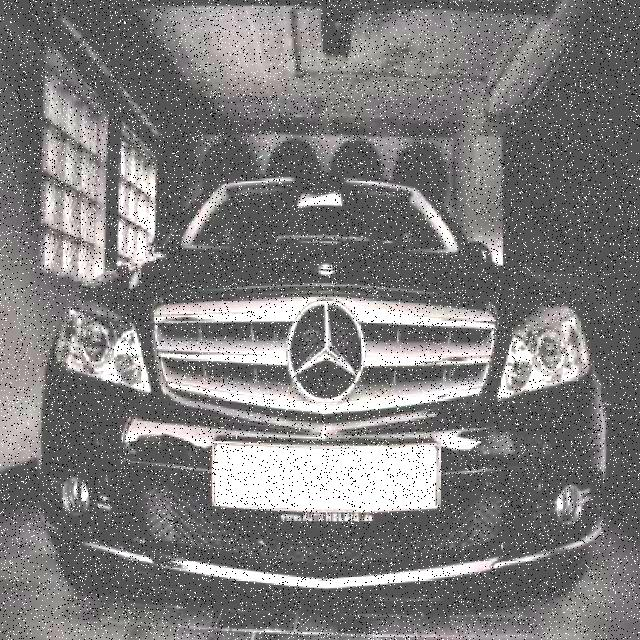license_plate: (213, 440, 442, 514)
